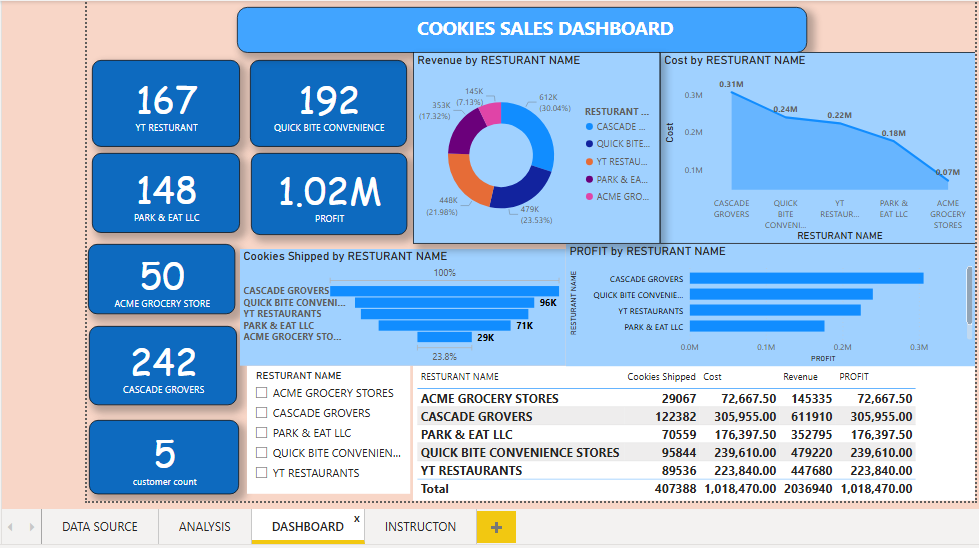

The page's visual inventory and layout, read from the dashboard file:
{"tool":"powerbi","page":{"name":"DASHBOARD","canvas":[1280,720],"ordinal":2},"visuals":[{"type":"card","fields":{"Values":["Order_Data.head count"]},"box":[234.7,85,226.1,125.3],"z":0},{"type":"card","fields":{"Values":["Order_Data.head count"]},"box":[7.2,85,213.1,125.3],"z":1000},{"type":"card","fields":{"Values":["Order_Data.head count"]},"box":[7.2,218.9,213.1,115.2],"z":2000},{"type":"card","fields":{"Values":["Order_Data.head count"]},"box":[1.4,349.9,211.7,100.8],"z":3000},{"type":"card","fields":{"Values":["Order_Data.head count"]},"box":[2.9,468,213.1,113.8],"z":4000},{"type":"textbox","box":[216.7,8.4,821.4,65.5],"z":5000},{"type":"card","fields":{"Values":["Sum(Order_Data.PROFIT)"]},"box":[236.2,218.9,224.6,118.1],"z":6000},{"type":"card","fields":{"Values":["Order_Data.customer count"]},"box":[2.9,603.4,216,106.6],"z":7000},{"type":"tableEx","fields":{"Values":["Order_Data.RESTURANT NAME","Sum(Order_Data.Cookies Shipped)","Sum(Order_Data.Cost)","Sum(Order_Data.Revenue)","Sum(Order_Data.PROFIT)"]},"box":[469.4,525.6,810.7,194.4],"z":8000},{"type":"areaChart","fields":{"Category":["Order_Data.RESTURANT NAME"],"Y":["Sum(Order_Data.Cost)"]},"box":[825.1,73.4,455,276.5],"z":9000},{"type":"clusteredBarChart","fields":{"Category":["Order_Data.RESTURANT NAME"],"Y":["Sum(Order_Data.PROFIT)"]},"box":[689.8,349.9,590.4,175.7],"z":10000},{"type":"funnel","fields":{"Category":["Order_Data.RESTURANT NAME"],"Y":["Sum(Order_Data.Cookies Shipped)"]},"box":[220.3,357.1,469.4,168.5],"z":11000},{"type":"donutChart","fields":{"Category":["Order_Data.RESTURANT NAME"],"Y":["Sum(Order_Data.Revenue)"]},"box":[469.4,73.4,355.7,276.5],"z":12000},{"type":"slicer","fields":{"Values":["Order_Data.RESTURANT NAME"]},"box":[230.4,525.6,234.7,184.3],"z":13000}]}

Visuals, with their boxes on the page's 1280x720 design canvas (x1, y1, x2, y2). These are canvas units, not pixel positions in the 979x548 screenshot, which may show the page scaled, cropped or inside an application window:
card - Order_Data.head count: rect(235, 85, 461, 210)
card - Order_Data.head count: rect(7, 85, 220, 210)
card - Order_Data.head count: rect(7, 219, 220, 334)
card - Order_Data.head count: rect(1, 350, 213, 451)
card - Order_Data.head count: rect(3, 468, 216, 582)
textbox: rect(217, 8, 1038, 74)
card - Sum(Order_Data.PROFIT): rect(236, 219, 461, 337)
card - Order_Data.customer count: rect(3, 603, 219, 710)
tableEx - Order_Data.RESTURANT NAME x Sum(Order_Data.Cookies Shipped): rect(469, 526, 1280, 720)
areaChart - Order_Data.RESTURANT NAME x Sum(Order_Data.Cost): rect(825, 73, 1280, 350)
clusteredBarChart - Order_Data.RESTURANT NAME x Sum(Order_Data.PROFIT): rect(690, 350, 1280, 526)
funnel - Order_Data.RESTURANT NAME x Sum(Order_Data.Cookies Shipped): rect(220, 357, 690, 526)
donutChart - Order_Data.RESTURANT NAME x Sum(Order_Data.Revenue): rect(469, 73, 825, 350)
slicer - Order_Data.RESTURANT NAME: rect(230, 526, 465, 710)
